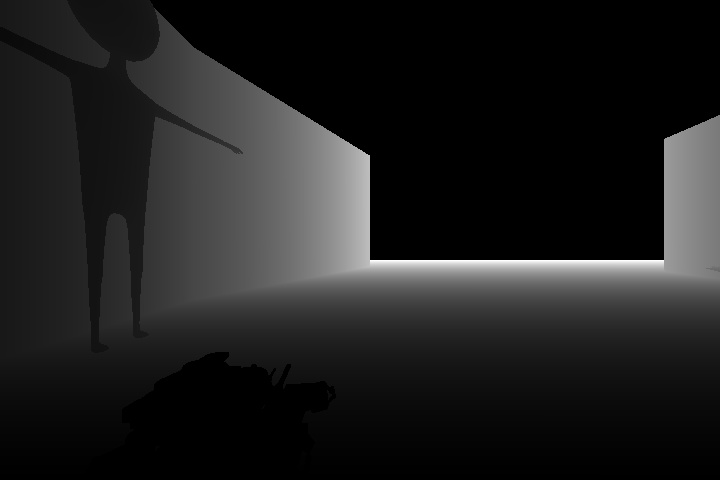alien: (1, 1, 246, 355)
